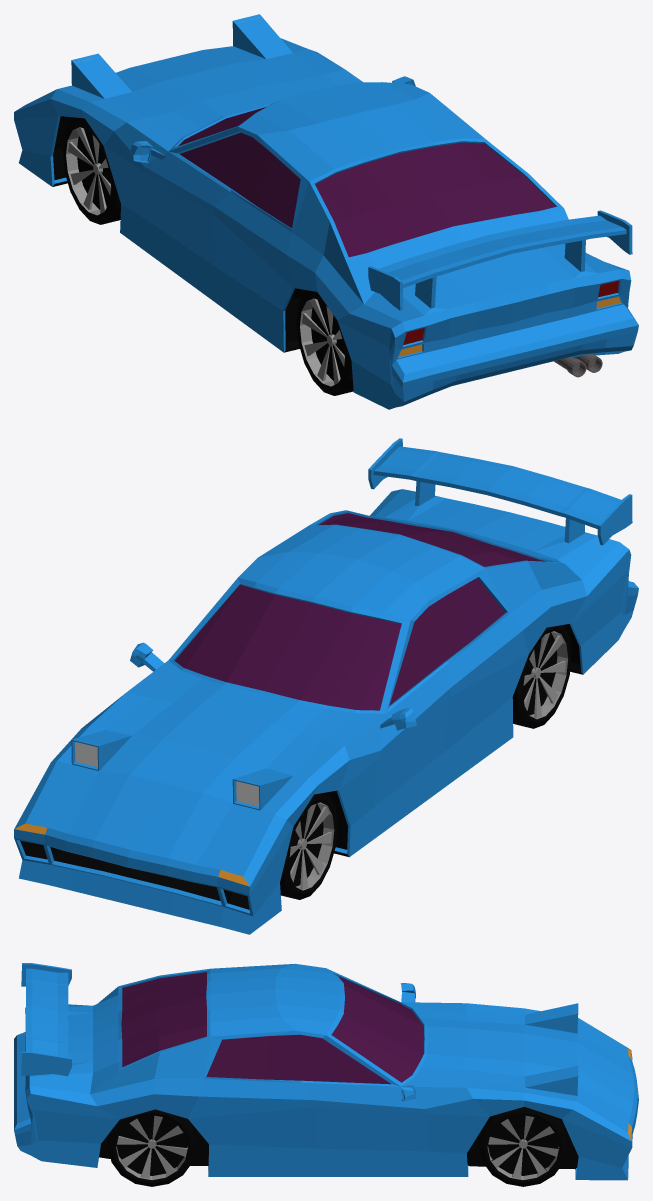
The model's file is car1.glb.
The picture shows the model from 3 angles, top to bottom: view 1: azimuth 30°, elevation 25°; view 2: azimuth 150°, elevation 25°; view 3: azimuth 270°, elevation 25°; orthographic projection. The views are drawn at different scales.
Visible parts, largest first — view 1: Body, Front Left Wheel, Rear Left Wheel; view 2: Body, Rear Left Wheel, Front Left Wheel; view 3: Body, Front Right Wheel, Rear Right Wheel.
Boxes of the visible parts, x1,y1,x2,y2 form: Body: (14,14,638,409); Front Left Wheel: (62,117,120,224); Rear Left Wheel: (296,290,353,395); Body: (14,438,638,934); Rear Left Wheel: (512,625,571,728); Front Left Wheel: (280,793,337,899); Body: (14,963,638,1180); Front Right Wheel: (479,1106,567,1186); Rear Right Wheel: (108,1109,195,1186).
Bounding box in the file's own units: 1.97 × 1.3 × 4.73.
